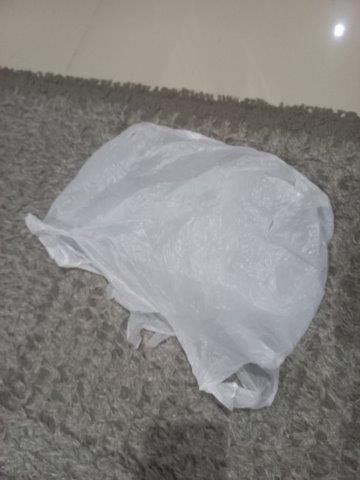plastik: (27, 118, 331, 416)
